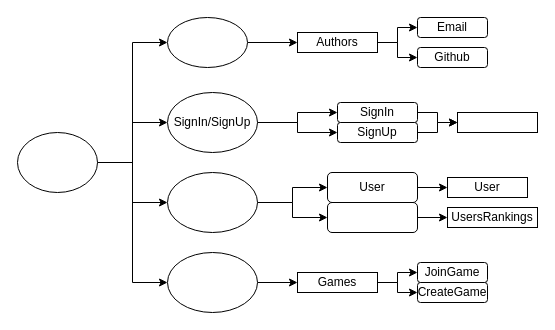
This 555x330 diagram has some shape labels left out. The shapes that lost their labels are listed below. From the top down, each one's box as (x1, y1, x2, y2) in pixels, then its label:
(166, 16, 248, 68): Info
(456, 112, 538, 132): Token
(16, 132, 98, 192): Home
(166, 172, 258, 232): LeaderBoard
(326, 202, 418, 232): Rankings
(166, 252, 258, 312): Rooms
